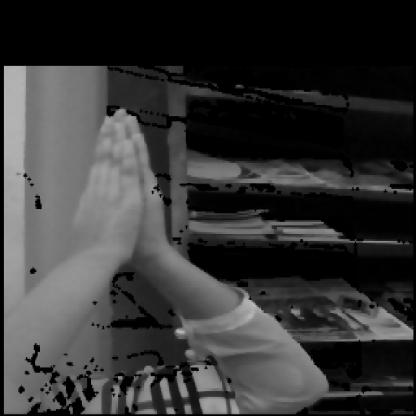namaste: (46, 94, 208, 319)
